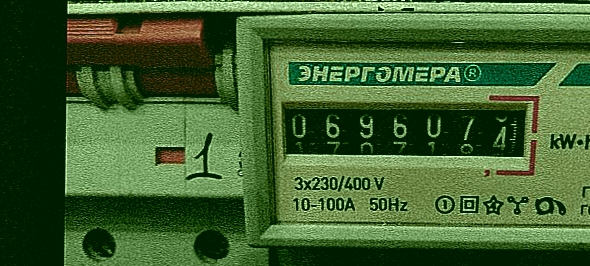0: (288, 112, 310, 140), (425, 110, 444, 140), (324, 112, 342, 138)
4: (491, 124, 509, 152)
6: (390, 110, 409, 140)
7: (458, 112, 477, 141)
9: (357, 111, 376, 140)
screen: (267, 88, 542, 176)
